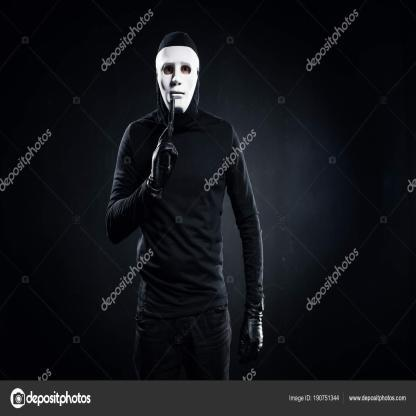criminal: (105, 31, 265, 381)
weapon: (160, 95, 177, 173)
